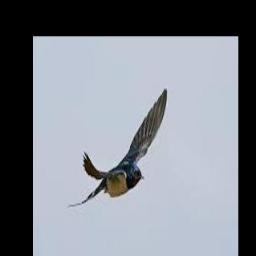Swallow: (68, 86, 168, 209)
